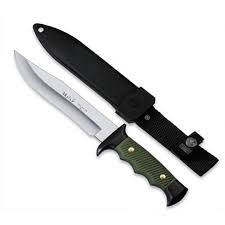knife: (13, 47, 190, 208)
